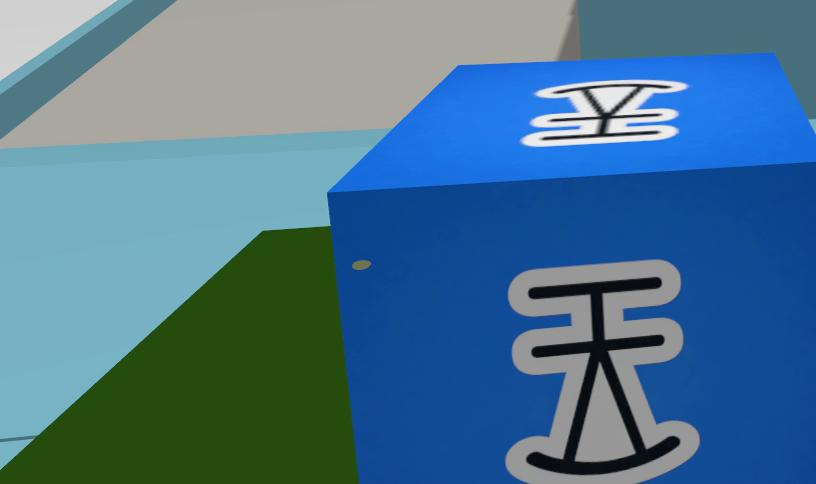KFS_REAL: (328, 55, 816, 483), (506, 260, 699, 483), (521, 79, 688, 147)
